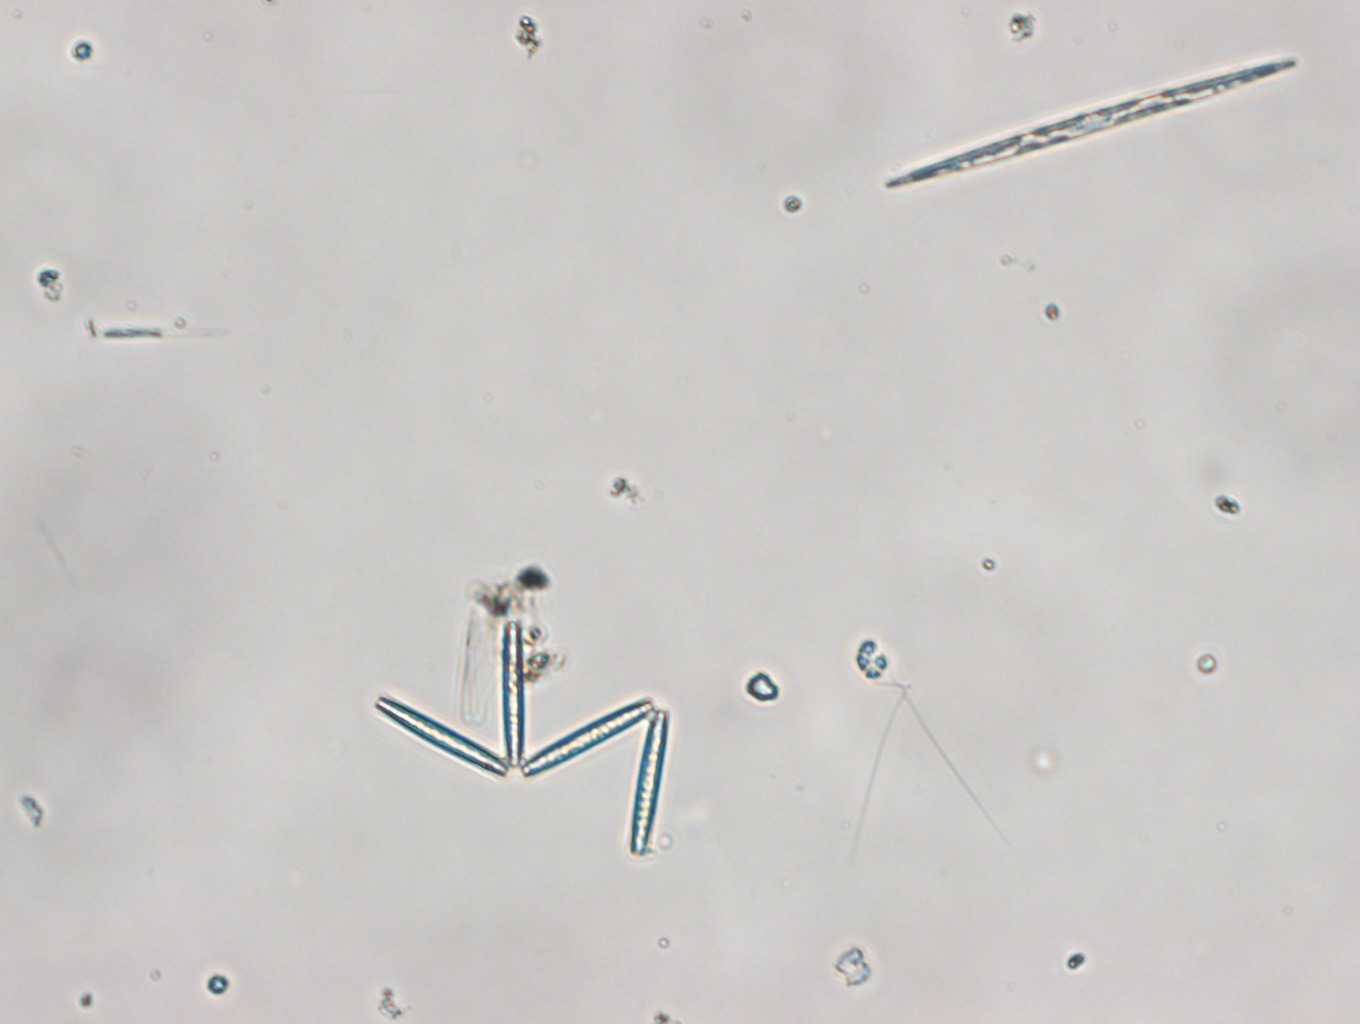navicula: (875, 42, 1312, 196)
thalassionema nitzschioides: (356, 625, 678, 865)
